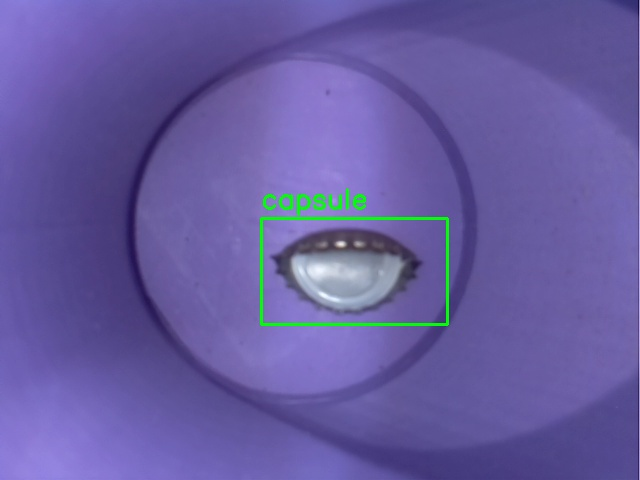capsule: (261, 218, 447, 324)
